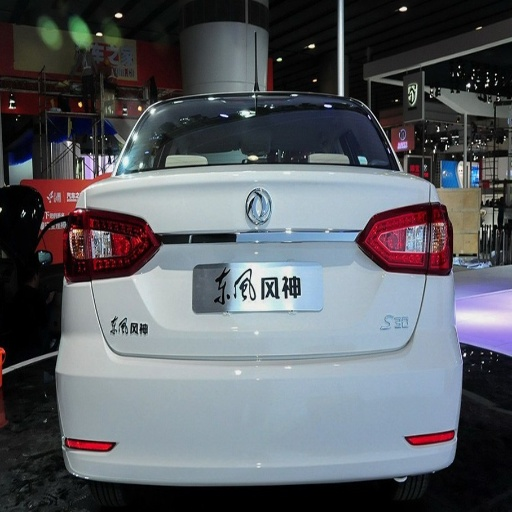back_bumper: (15, 275, 507, 496)
tailgate: (111, 166, 416, 352), (90, 204, 134, 278)
